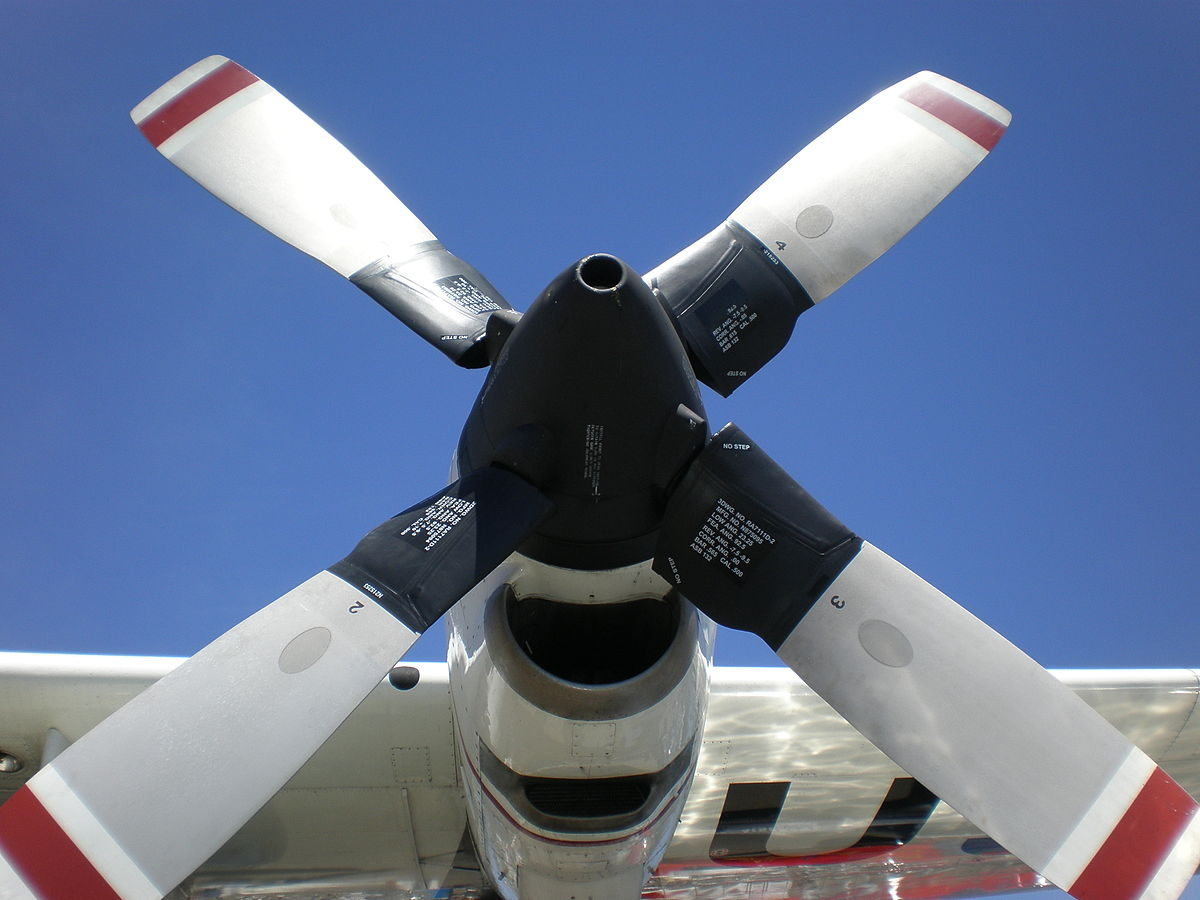Propeller: (168, 69, 1036, 764)
